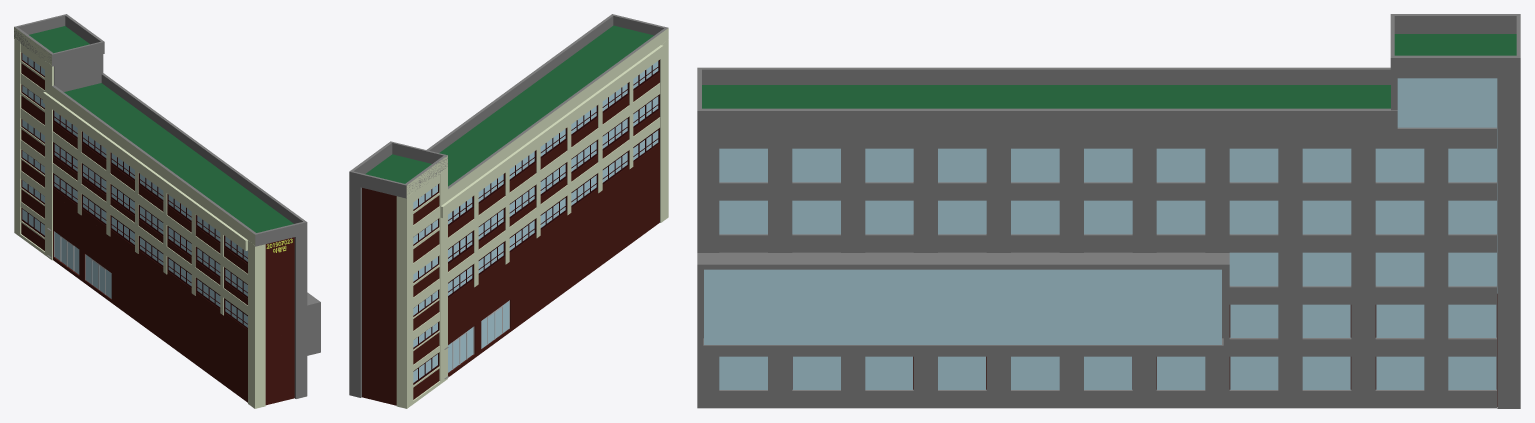
3 views of the same model, side by side, from view 1: azimuth 30°, elevation 25°; view 2: azimuth 150°, elevation 25°; view 3: azimuth 270°, elevation 25° (orthographic). The views are drawn at different scales.
Parts seen in each view (by area): view 1: B4; view 2: B4; view 3: B4.
Part boxes in pixels (bbox=[...]): B4: bbox=[14, 14, 320, 408]; B4: bbox=[349, 14, 668, 408]; B4: bbox=[697, 14, 1520, 408].
Bounding box in the file's own units: 48.25 × 139 × 296.
